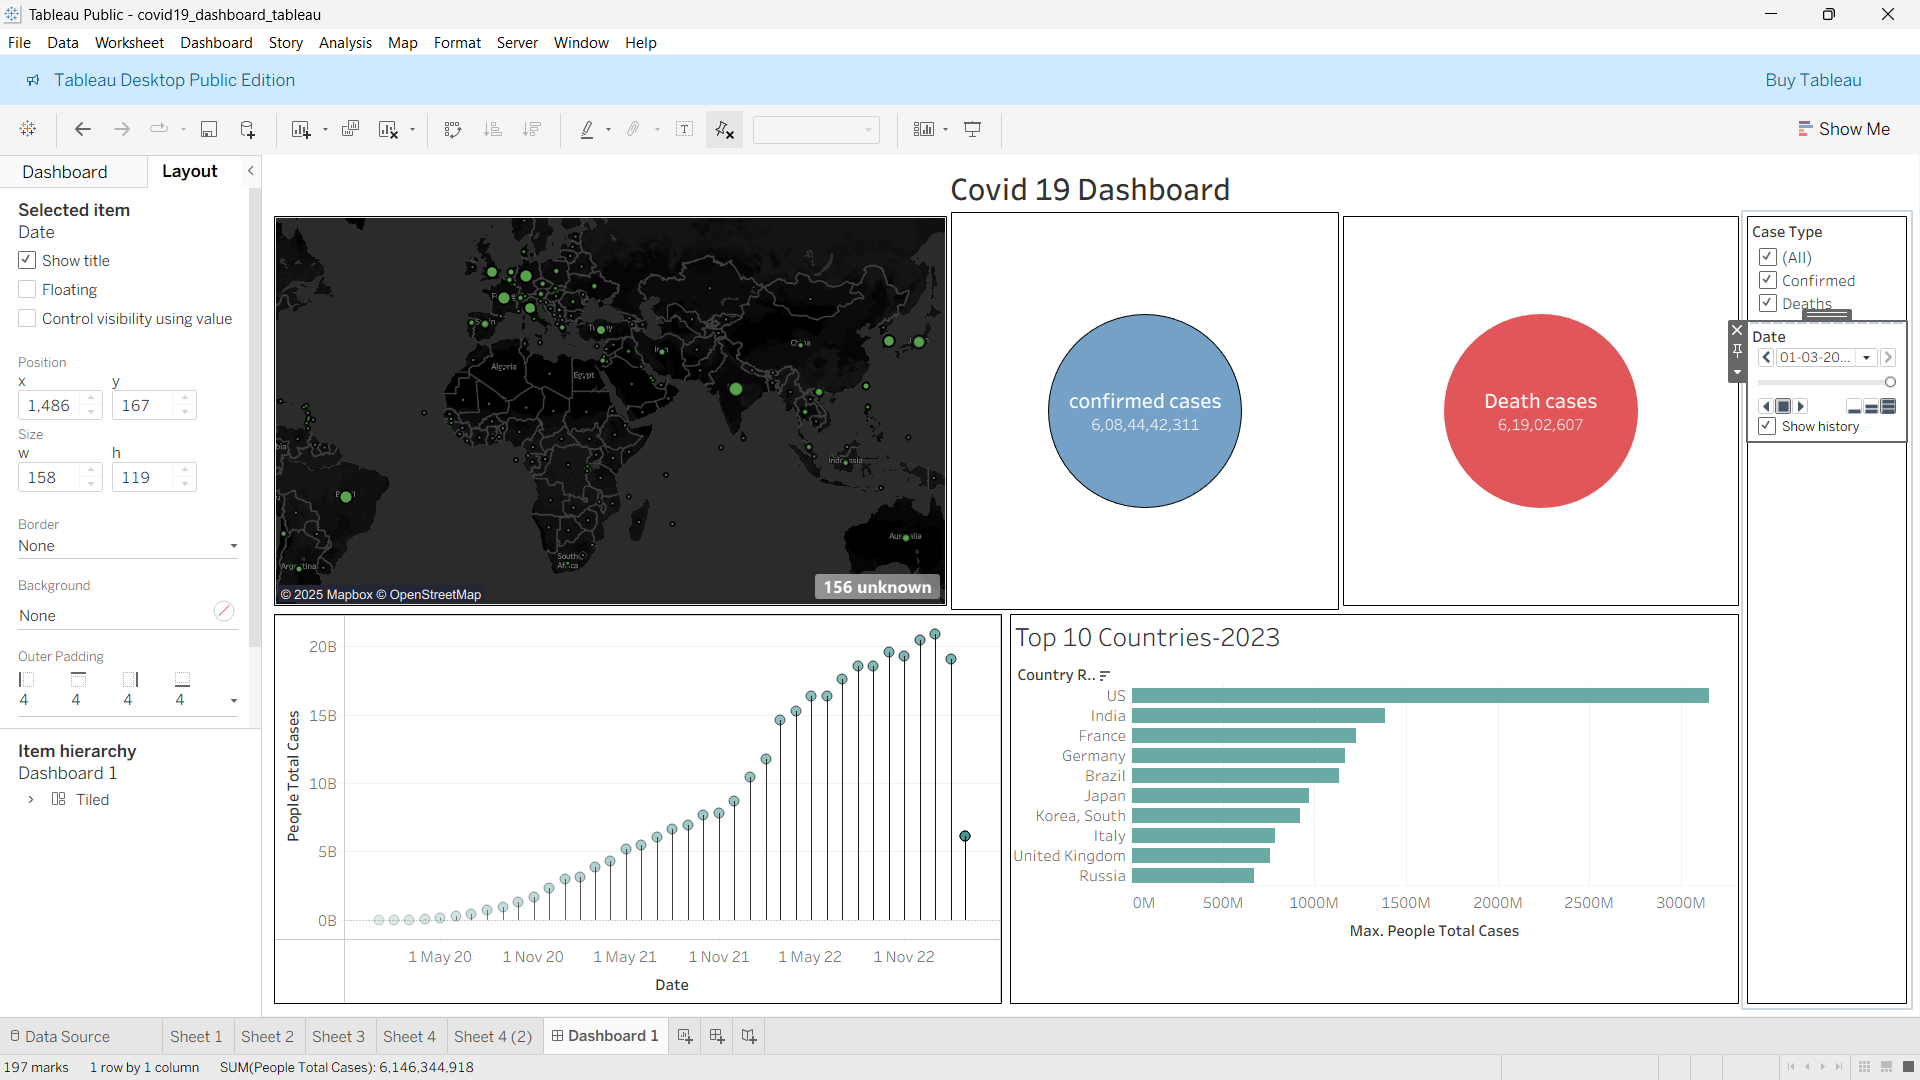

This screenshot's page, from the dashboard's own definition file:
{"tool":"tableau","page":{"name":"Dashboard 1","canvas":[1000,1000],"units":"permille","ordinal":0},"visuals":[{"type":"title","box":[4.8,9.3,990.3,56.9]},{"type":"worksheet","title":"Sheet 1","mark":"Circle","box":[4.8,66.2,410.9,462.1]},{"type":"worksheet","title":"Sheet 4","mark":"Pie","box":[415.7,66.2,234,462.1]},{"type":"worksheet","title":"Sheet 4 (2)","mark":"Pie","box":[649.8,66.2,244,462.1]},{"type":"filter","title":"Sheet 2","param":"[federated.1i4uu7z1ki1hix173v2f80c231lt].[none:Case_Type:nk]","box":[896.8,72,95.4,122]},{"type":"currpage","title":"Sheet 1","box":[896.8,194,95.4,138.2]},{"type":"worksheet","title":"Sheet 2","mark":"Automatic","rows":["People_Total Cases","People_Total Cases"],"cols":["Date"],"box":[4.8,528.3,444.4,462.4]},{"type":"worksheet","title":"Sheet 3","mark":"Automatic","rows":["Country_Reg"],"cols":["People_Total Cases"],"box":[449.2,528.3,444.6,462.4]}]}

Visuals, with their boxes on the dashboard's canvas, which has no fixed pixel size, in thousandths of its width and height (x1, y1, x2, y2). These are canvas units, not pixel positions in the 1920x1080 screenshot, which may show the page scaled, cropped or inside an application window:
title: bbox(5, 9, 995, 66)
"Sheet 1" worksheet (Circle marks): bbox(5, 66, 416, 528)
"Sheet 4" worksheet (Pie marks): bbox(416, 66, 650, 528)
"Sheet 4 (2)" worksheet (Pie marks): bbox(650, 66, 894, 528)
"Sheet 2" filter: bbox(897, 72, 992, 194)
"Sheet 1" currpage: bbox(897, 194, 992, 332)
"Sheet 2" worksheet: bbox(5, 528, 449, 991)
"Sheet 3" worksheet: bbox(449, 528, 894, 991)
